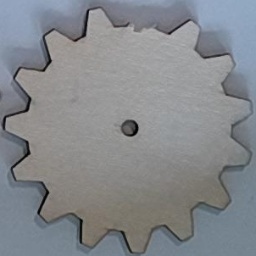Missing: (123, 8, 158, 37)
